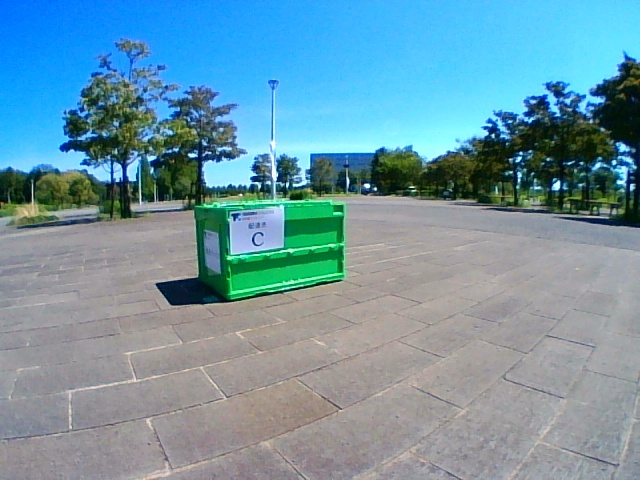green_box: (194, 201, 346, 299)
tag_c: (233, 212, 284, 249)
